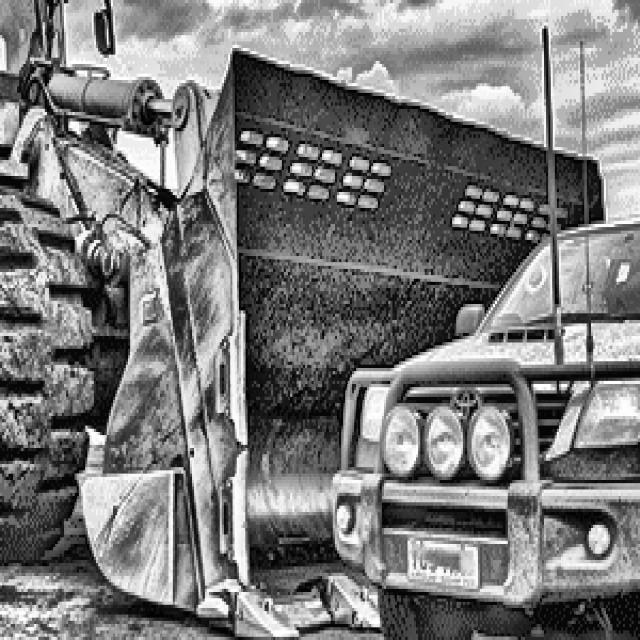buldozerpayloadergrader: (0, 0, 602, 621)
light_vehicle: (328, 185, 640, 640)
